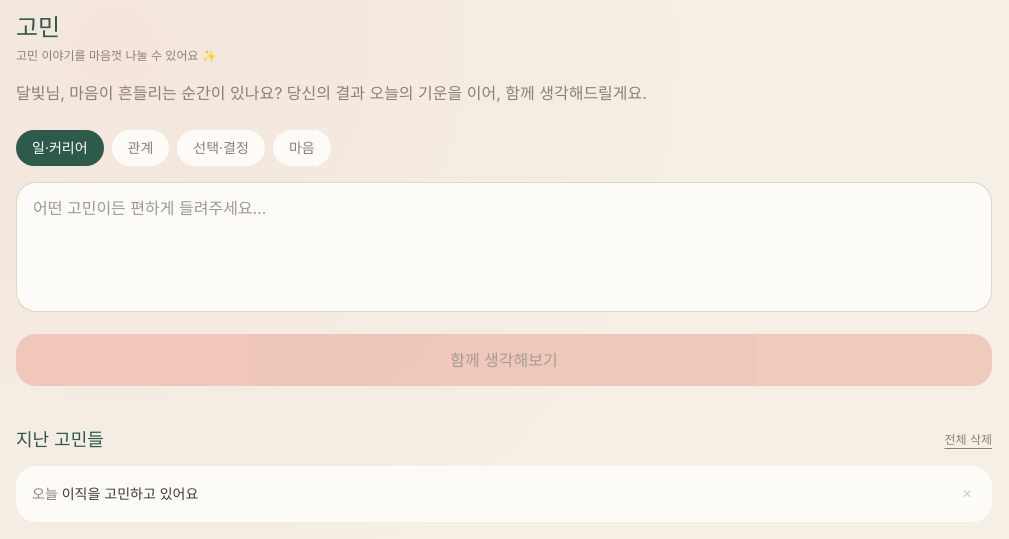
it: ConcernRoom — 익명 로컬 기록 › localStorage 기록을 불러오고, 항목 삭제는 즉시 목록·저장소에서 지운다
expect the text "오늘 이직을 고민하고 있어요" is shown: met, box [32,484,198,504]
Click the button named "이 고민 기록 삭제". click: coordinates (967, 494)
box: [958,482,976,506]
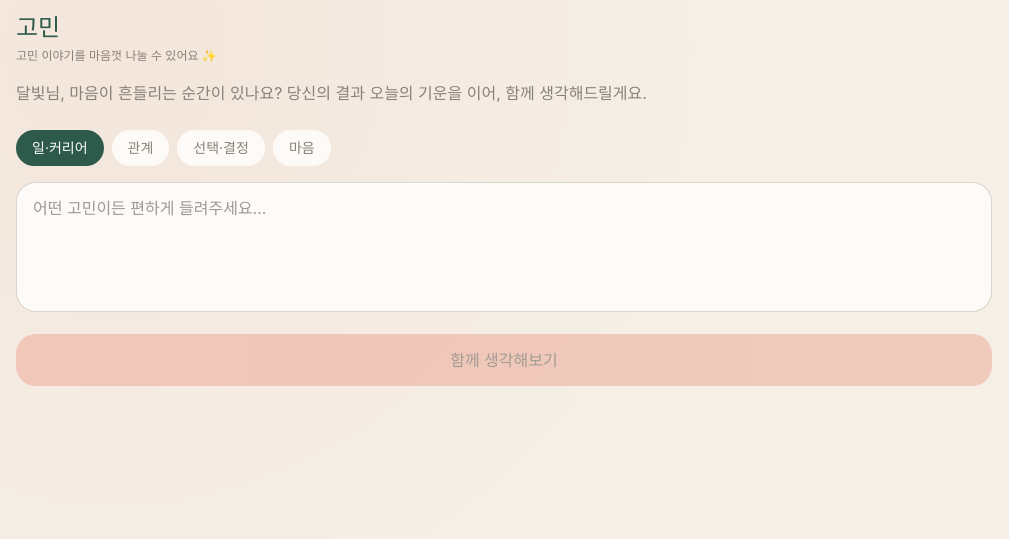
expect no headings "이직을 고민하고 있어요" are shown: met
